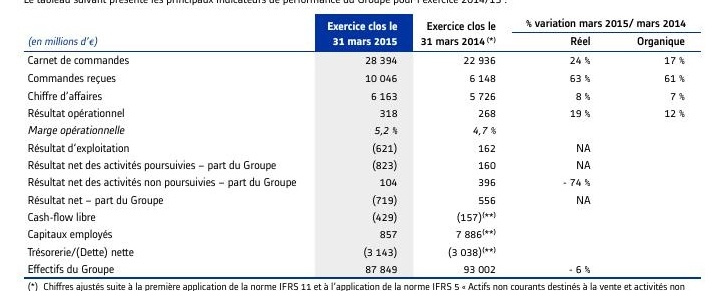table: (0, 0, 712, 291)
